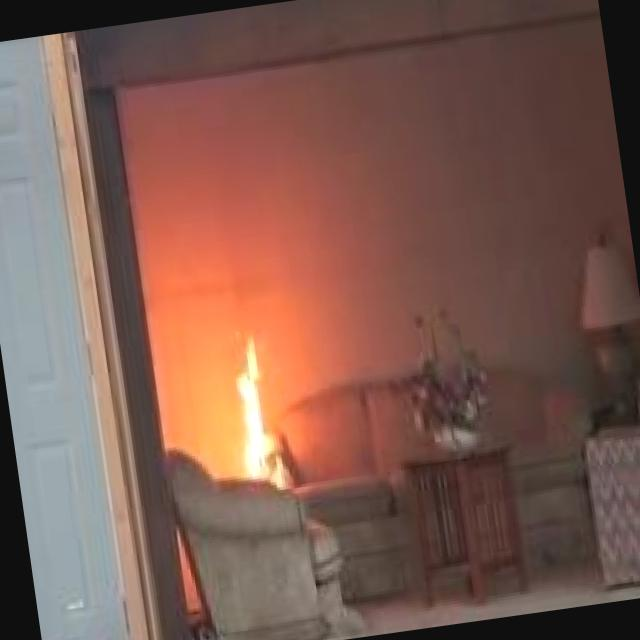fire: (194, 332, 294, 470)
